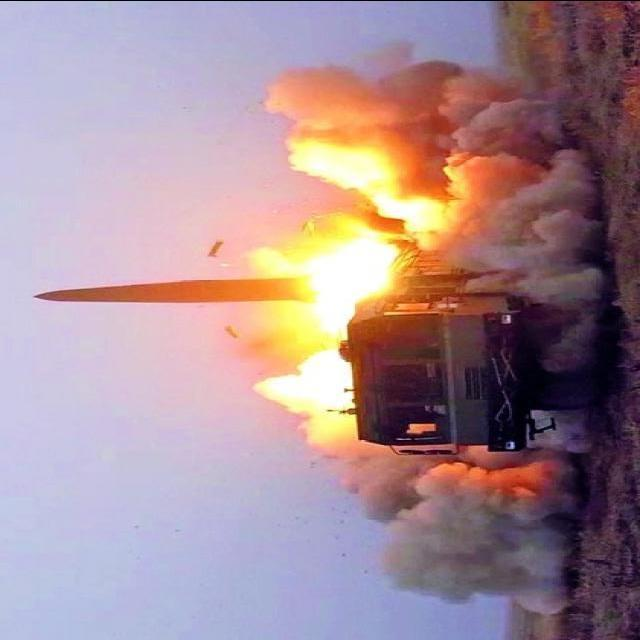missile: (29, 269, 323, 307)
